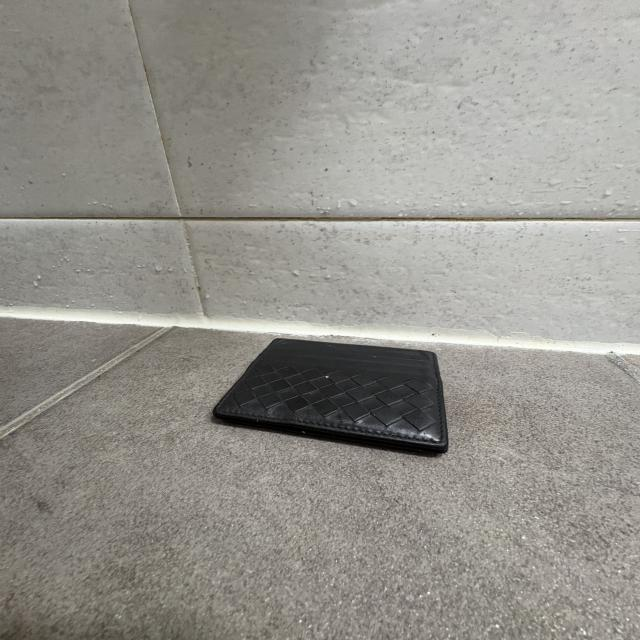wallet: (210, 335, 448, 460)
